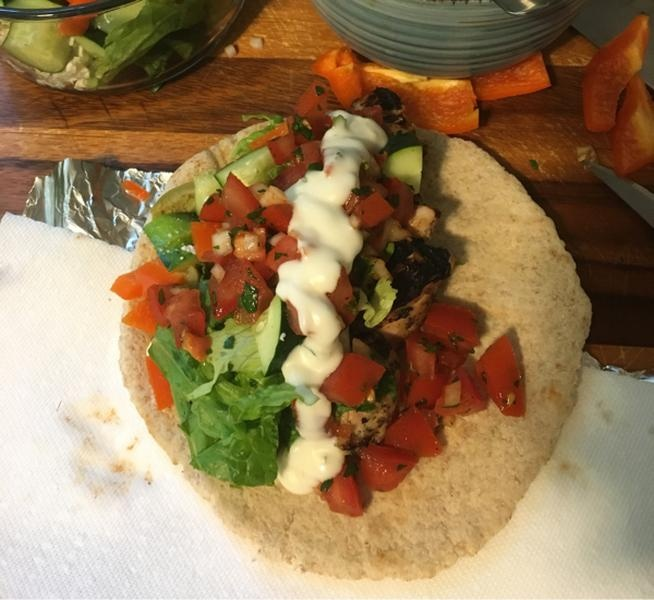tomate: (316, 303, 525, 517)
